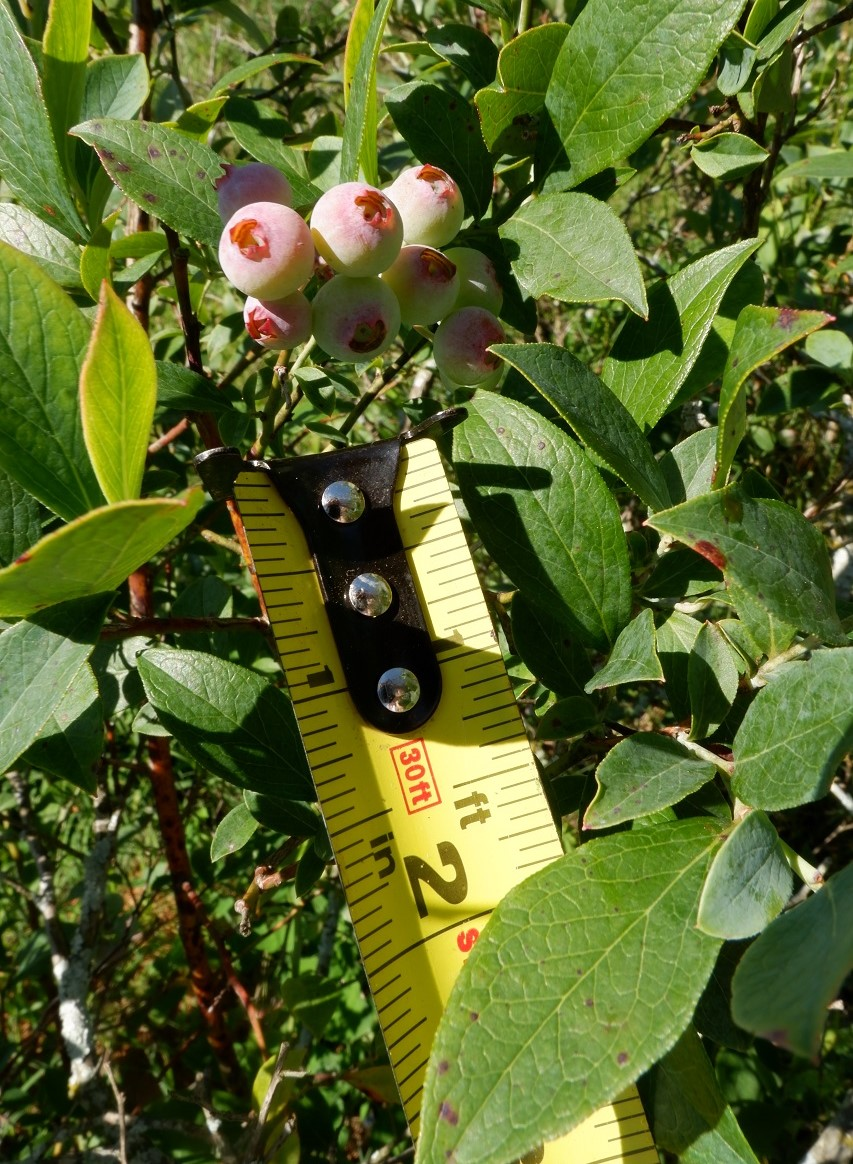Immature: (219, 202, 315, 301), (309, 181, 403, 277), (310, 275, 401, 362), (387, 164, 464, 249), (381, 244, 462, 324), (432, 306, 506, 384), (211, 161, 291, 227), (443, 246, 504, 318), (244, 290, 312, 350)
